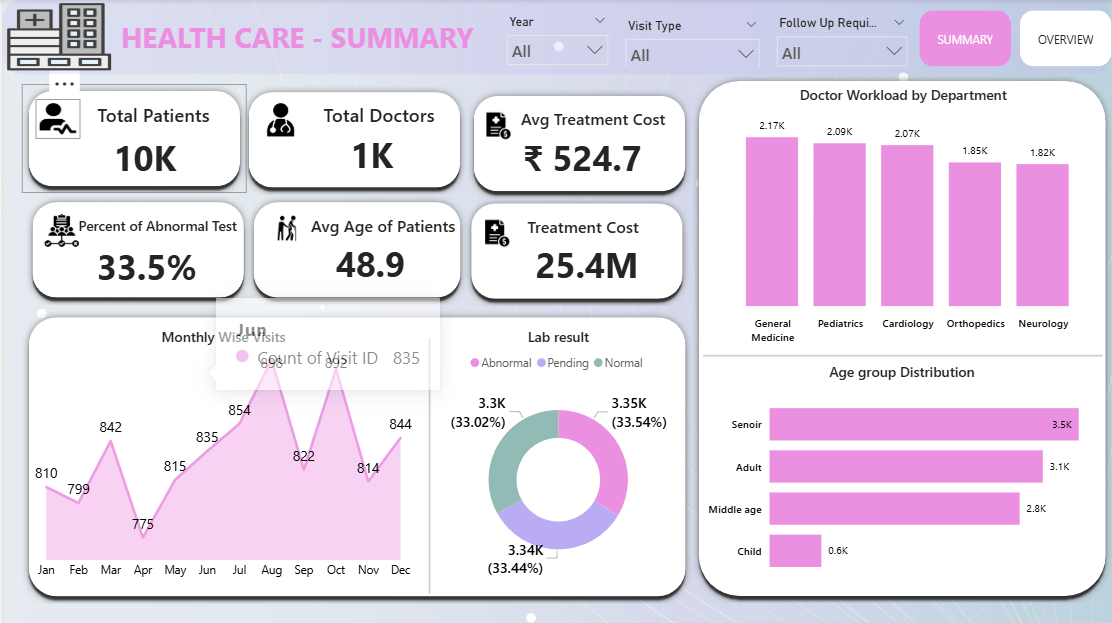

Layout of this report page (visuals, bound fields, positions):
{"tool":"tableau","page":{"name":"Dashboard 1","canvas":[1000,1000],"units":"permille","ordinal":0},"visuals":[{"type":"image","param":"Image/hospital - Copy.png","box":[4.8,10,54.9,113.6]},{"type":"worksheet","title":"title","mark":"Automatic","box":[59.7,10,394.7,113.6]},{"type":"filter","title":"age group by  visit","param":"[federated.0ob36mn0ewxyr71f2nbq703h34uz].[none:Visit Status:nk]","box":[454.4,10,128.8,113.6]},{"type":"filter","title":"dept by visit","param":"[federated.0ob36mn0ewxyr71f2nbq703h34uz].[none:Follow Up Required:nk]","box":[583.2,10,64.3,113.6]},{"type":"filter","title":"age group by  visit","param":"[federated.0ob36mn0ewxyr71f2nbq703h34uz].[none:Gender:nk]","box":[647.5,10,96.6,113.6]},{"type":"filter","title":"total visit by month","param":"[federated.0ob36mn0ewxyr71f2nbq703h34uz].[yr:Visit Date:ok]","box":[744.1,10,125.5,113.6]},{"type":"dashboard-object","box":[869.6,10,125.6,113.6]},{"type":"worksheet","title":"patients","mark":"Automatic","box":[4.8,123.6,214.8,126.1]},{"type":"worksheet","title":"doctor","mark":"Automatic","box":[219.6,123.6,175,126.1]},{"type":"worksheet","title":"avg age","mark":"Automatic","box":[394.7,123.6,188.5,126.1]},{"type":"worksheet","title":"treatmeent cost","mark":"Bar","box":[583.2,123.6,173,126.1]},{"type":"worksheet","title":"Sheet 17","mark":"Automatic","box":[756.1,123.6,239,126.1]},{"type":"worksheet","title":"total visit by month","mark":"Area","rows":["Calculation_1913174042968067"],"cols":["Calculation_1913174042185729"],"box":[4.8,249.6,635.7,378.3]},{"type":"worksheet","title":"age group by  visit","mark":"Automatic","rows":["Calculation_2441214524776448"],"cols":["Calculation_1913174042968067"],"box":[640.6,249.6,354.6,378.3]},{"type":"worksheet","title":"dept by visit","mark":"Automatic","rows":["Calculation_1913174042968067"],"cols":["Specialty"],"box":[4.8,627.9,434.5,362.1]},{"type":"worksheet","title":"TEST RESULT","mark":"Pie","rows":["Calculation_1913174035406848","Calculation_1913174035406848"],"box":[439.3,627.9,201,362.1]},{"type":"worksheet","title":"top 5 doctor by visit","mark":"Automatic","box":[640.3,627.9,354.9,362.1]}]}

Visuals, with their boxes on the dashboard's canvas, which has no fixed pixel size, in thousandths of its width and height (x1, y1, x2, y2). These are canvas units, not pixel positions in the 1112x623 screenshot, which may show the page scaled, cropped or inside an application window:
image: left=5, top=10, right=60, bottom=124
"title" worksheet: left=60, top=10, right=454, bottom=124
"age group by  visit" filter: left=454, top=10, right=583, bottom=124
"dept by visit" filter: left=583, top=10, right=648, bottom=124
"age group by  visit" filter: left=648, top=10, right=744, bottom=124
"total visit by month" filter: left=744, top=10, right=870, bottom=124
dashboard-object: left=870, top=10, right=995, bottom=124
"patients" worksheet: left=5, top=124, right=220, bottom=250
"doctor" worksheet: left=220, top=124, right=395, bottom=250
"avg age" worksheet: left=395, top=124, right=583, bottom=250
"treatmeent cost" worksheet (Bar marks): left=583, top=124, right=756, bottom=250
"Sheet 17" worksheet: left=756, top=124, right=995, bottom=250
"total visit by month" worksheet (Area marks): left=5, top=250, right=640, bottom=628
"age group by  visit" worksheet: left=641, top=250, right=995, bottom=628
"dept by visit" worksheet: left=5, top=628, right=439, bottom=990
"TEST RESULT" worksheet (Pie marks): left=439, top=628, right=640, bottom=990
"top 5 doctor by visit" worksheet: left=640, top=628, right=995, bottom=990
